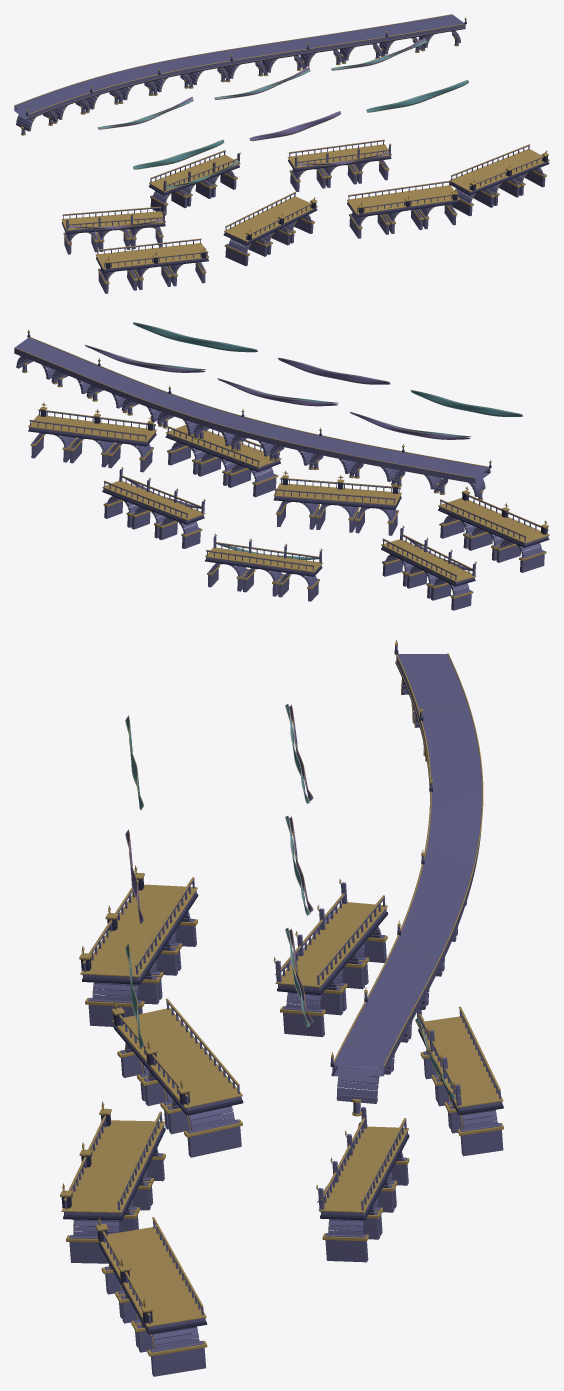
File: koharu_realm.glb
3 views of the same model, one above another, from view 1: azimuth 30°, elevation 25°; view 2: azimuth 150°, elevation 25°; view 3: azimuth 270°, elevation 25° (orthographic). The views are drawn at different scales.
Parts seen in each view (by area): view 1: Koharu continuous vaulted canopy curved viaduct, Koharu foreground 2 upper molding, Koharu foreground 0 upper molding, Koharu foreground 3 upper molding, Koharu foreground 1 upper molding, Koharu 0 upper molding, Koharu 2 upper molding, Koharu 1 upper molding, Koharu continuous vaulted canopy stepped lower molding, Koharu continuous vaulted canopy near bronze edge, Koharu near canopy 2, Koharu continuous vaulted canopy far bronze edge (+3 smaller); view 2: Koharu continuous vaulted canopy curved viaduct, Koharu foreground 0 upper molding, Koharu foreground 1 upper molding, Koharu foreground 3 upper molding, Koharu foreground 2 upper molding, Koharu 0 upper molding, Koharu 2 upper molding, Koharu 1 upper molding, Koharu near canopy 2, Koharu near canopy 1, Koharu near canopy 0, Koharu continuous vaulted canopy near bronze edge (+6 smaller); view 3: Koharu continuous vaulted canopy curved viaduct, Koharu foreground 1 upper molding, Koharu foreground 3 upper molding, Koharu foreground 2 upper molding, Koharu foreground 0 upper molding, Koharu 1 upper molding, Koharu 2 upper molding, Koharu 0 upper molding, Koharu foreground 3 pier 2 1, Koharu foreground 1 pier 2 1, Koharu continuous vaulted canopy deep arch 11 voussoirs, Koharu 2 pier 2 1 (+3 smaller).
Boxes of the visible parts, x1,y1,x2,y2 form: Koharu continuous vaulted canopy curved viaduct: [14, 14, 465, 119]; Koharu foreground 2 upper molding: [347, 185, 460, 214]; Koharu foreground 0 upper molding: [96, 243, 209, 269]; Koharu foreground 3 upper molding: [449, 149, 549, 191]; Koharu foreground 1 upper molding: [224, 196, 317, 241]; Koharu 0 upper molding: [61, 211, 165, 230]; Koharu 2 upper molding: [287, 144, 391, 168]; Koharu 1 upper molding: [149, 154, 240, 192]; Koharu continuous vaulted canopy stepped lower molding: [26, 28, 465, 119]; Koharu continuous vaulted canopy near bronze edge: [28, 23, 464, 114]; Koharu near canopy 2: [366, 80, 468, 112]; Koharu continuous vaulted canopy far bronze edge: [14, 14, 452, 105]; Koharu continuous vaulted canopy curved viaduct: [14, 337, 490, 483]; Koharu foreground 0 upper molding: [438, 498, 549, 543]; Koharu foreground 1 upper molding: [273, 483, 401, 505]; Koharu foreground 3 upper molding: [28, 414, 156, 442]; Koharu foreground 2 upper molding: [165, 424, 281, 467]; Koharu 0 upper molding: [381, 539, 476, 582]; Koharu 2 upper molding: [102, 481, 205, 520]; Koharu 1 upper molding: [205, 547, 322, 572]; Koharu near canopy 2: [133, 322, 257, 352]; Koharu near canopy 1: [278, 358, 390, 384]; Koharu near canopy 0: [410, 390, 522, 416]; Koharu continuous vaulted canopy near bronze edge: [29, 337, 488, 467]; Koharu continuous vaulted canopy curved viaduct: [332, 654, 481, 1076]; Koharu foreground 1 upper molding: [112, 1008, 242, 1108]; Koharu foreground 3 upper molding: [97, 1227, 206, 1327]; Koharu foreground 2 upper molding: [61, 1120, 164, 1213]; Koharu foreground 0 upper molding: [80, 884, 197, 977]; Koharu 1 upper molding: [418, 1016, 503, 1107]; Koharu 2 upper molding: [318, 1126, 408, 1212]; Koharu 0 upper molding: [275, 902, 387, 987]; Koharu foreground 3 pier 2 1: [150, 1340, 206, 1376]; Koharu foreground 1 pier 2 1: [187, 1119, 241, 1157]; Koharu continuous vaulted canopy deep arch 11 voussoirs: [337, 1062, 391, 1103]; Koharu 2 pier 2 1: [325, 1233, 368, 1262].
Bounding box in the file's own units: 83.02 × 25.71 × 34.58.
